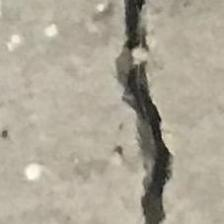Crack: (96, 0, 206, 224)
